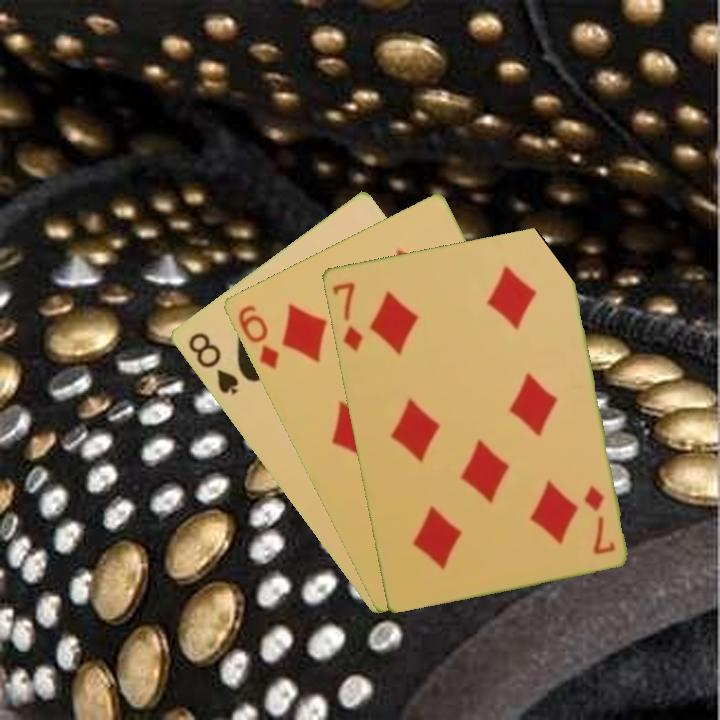6d: (233, 301, 282, 373)
7d: (580, 481, 618, 557), (328, 278, 365, 355)
8s: (184, 328, 241, 398)
